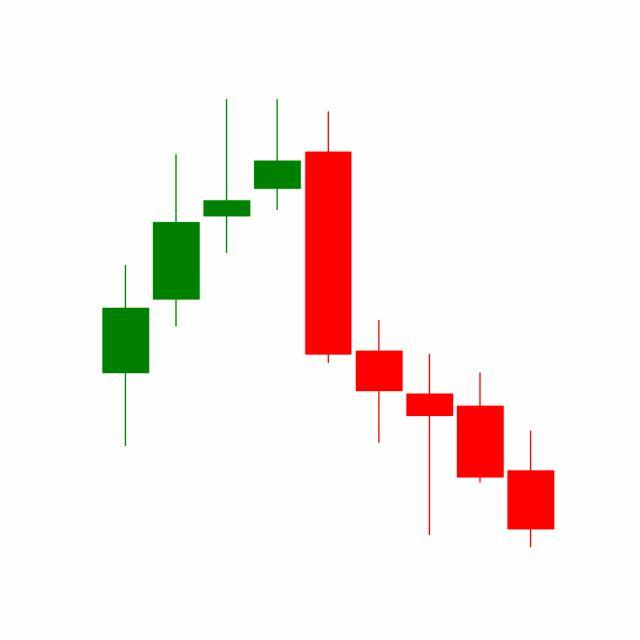Hikkake Pattern: (302, 107, 555, 549)
